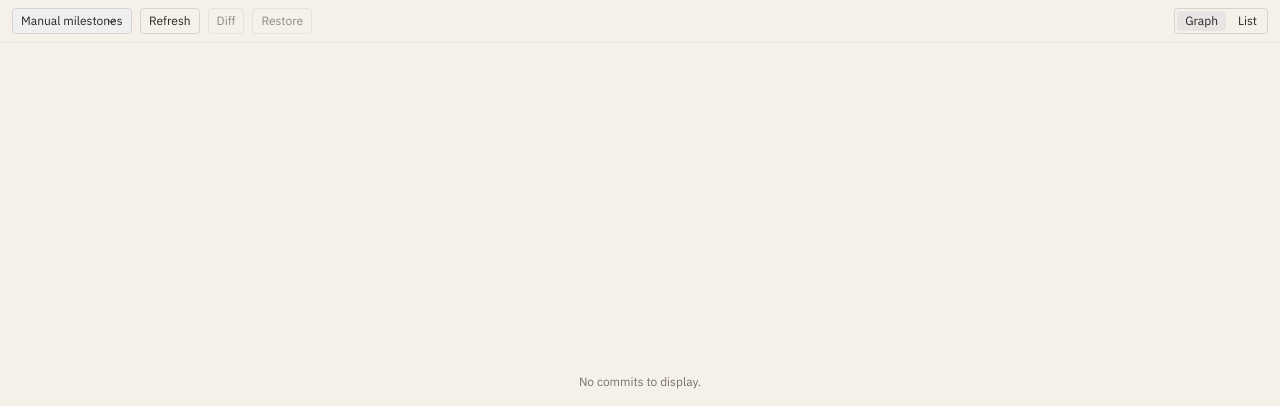
Scenario: GitHistoryList › shows empty-after-filter message when no commits match filter
This screenshot has width=1280, height=406.
What coordinates should you click on to do the following:
click the button with test id "git-history-view-list"
I would click on:
 (1248, 21)
Its box is [1230, 11, 1265, 31].
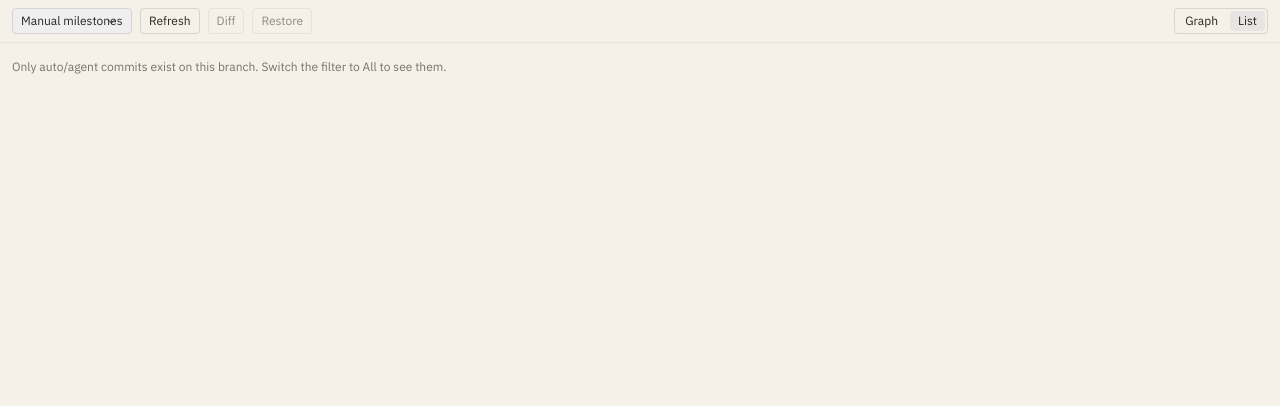
Now the text with test id "git-history-empty-after-filter" is shown, box [12, 59, 446, 74]
